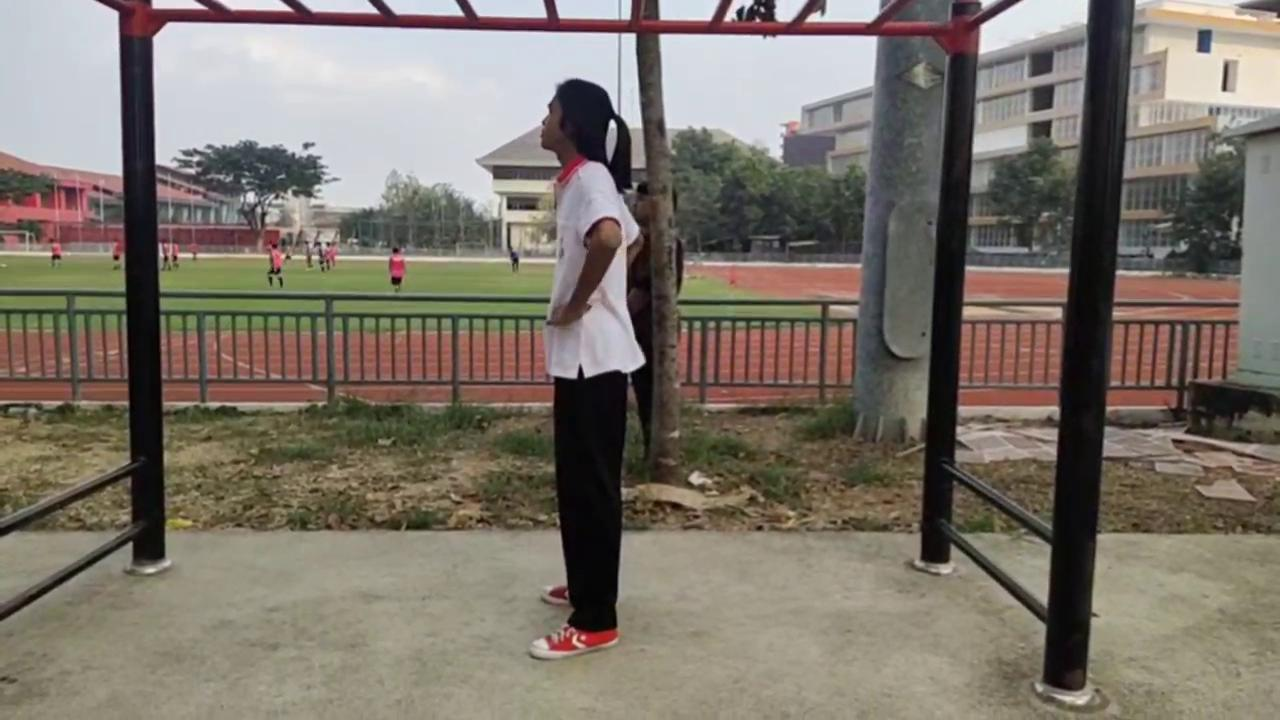squat up: (530, 80, 653, 658)
